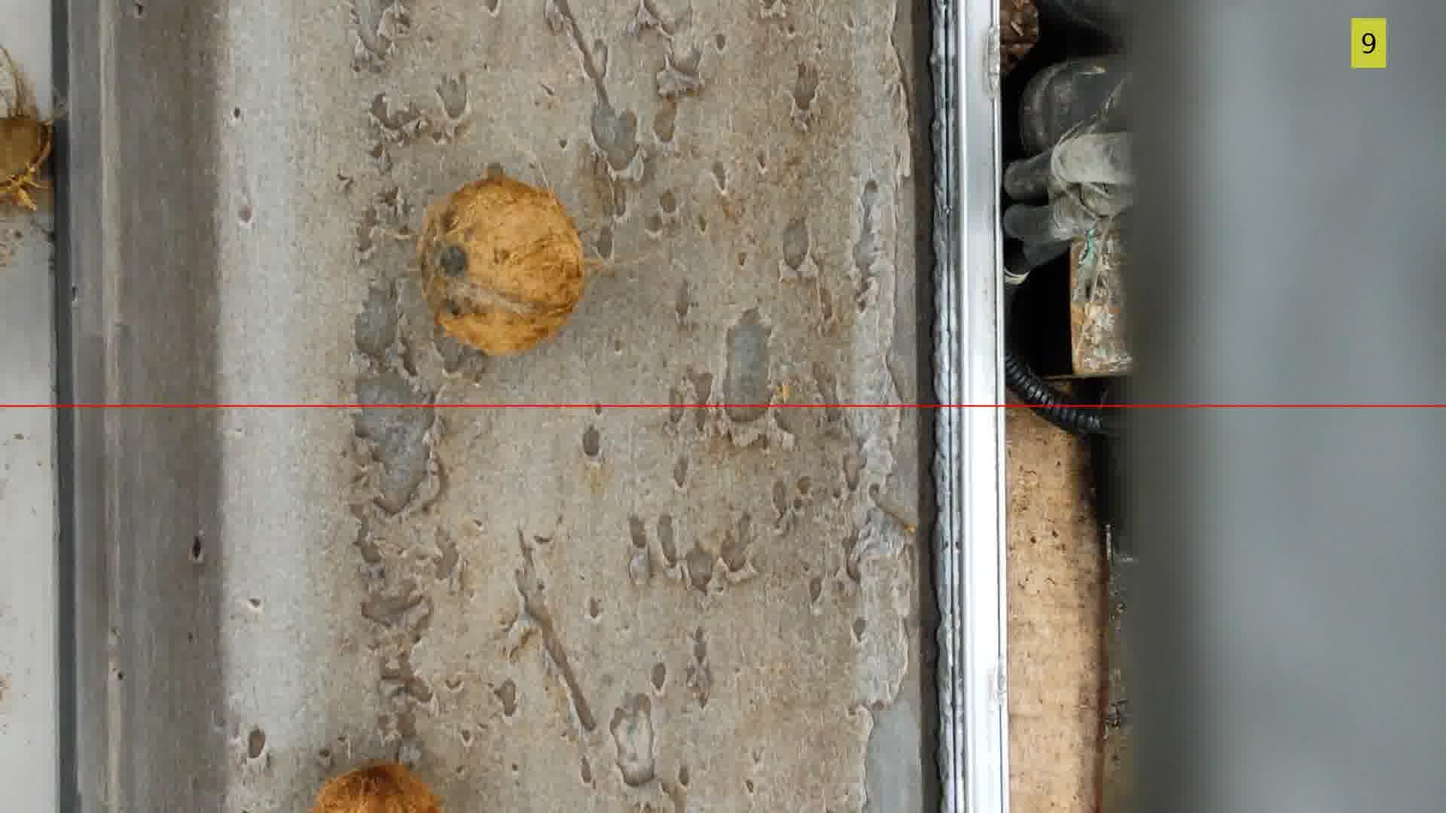Coconut: (416, 178, 584, 356), (0, 48, 53, 210), (312, 763, 441, 812)
